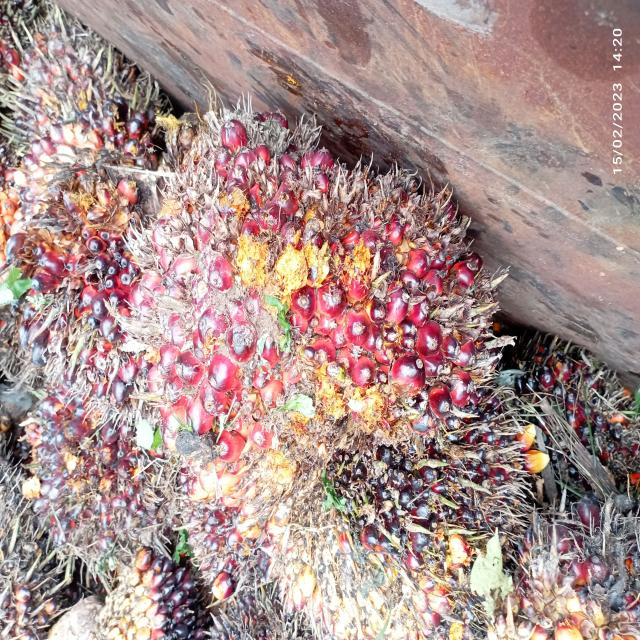fraksi 00: (334, 348, 572, 594), (4, 0, 170, 299)
fraksi 1: (96, 73, 546, 539), (16, 352, 160, 581)
